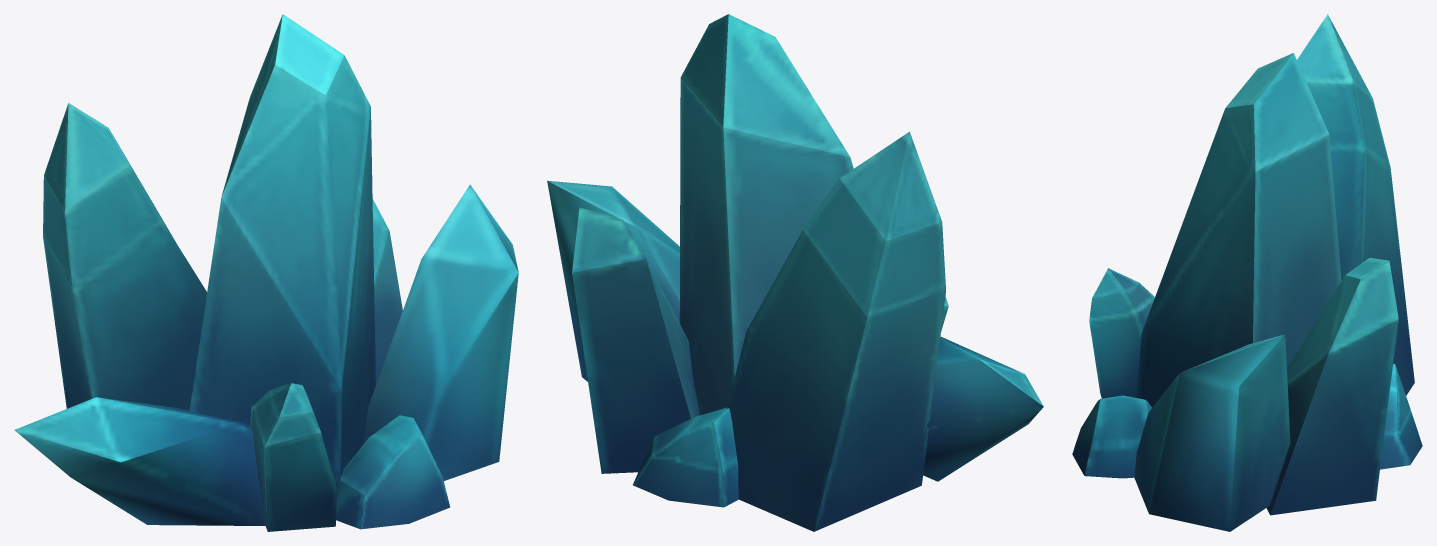
Rendered from shuijing_01.FBX.
The picture shows the model from 3 angles, left to right: view 1: azimuth 30°, elevation 25°; view 2: azimuth 150°, elevation 25°; view 3: azimuth 270°, elevation 25°; orthographic projection. The views are drawn at different scales.
Visible parts, largest first — view 1: Object02; view 2: Object02; view 3: Object02.
Boxes of the visible parts, x1=… form: Object02: x1=14, y1=14, x2=518, y2=531; Object02: x1=547, y1=14, x2=1043, y2=531; Object02: x1=1072, y1=14, x2=1422, y2=531.
Bounding box in the file's own units: 31.02 × 26.83 × 20.53.
1 material, 1 textured.
